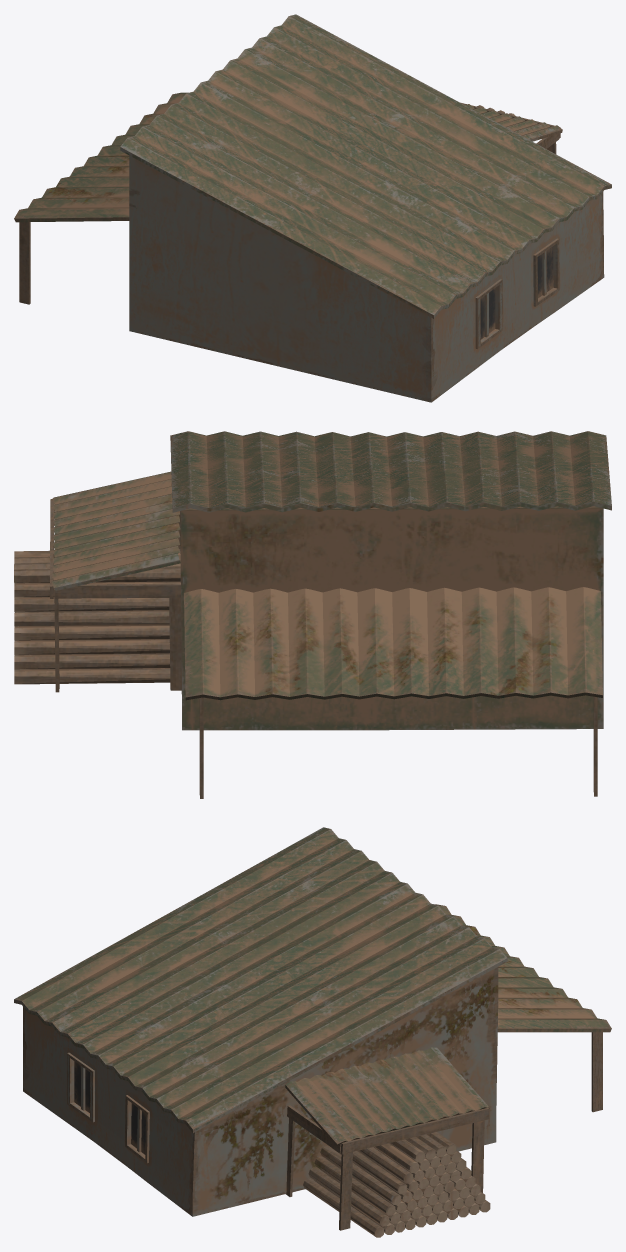
The model's file is SM_house_distant.gltf.
3 renders of one model, top to bottom at view 1: azimuth 30°, elevation 25°; view 2: azimuth 150°, elevation 25°; view 3: azimuth 270°, elevation 25°, orthographic. The views are drawn at different scales.
Parts seen in each view (by area): view 1: SM_house_distant; view 2: SM_house_distant; view 3: SM_house_distant.
Boxes of the visible parts, left/top/right/bottom form: SM_house_distant: left=14, top=14, right=611, bottom=402; SM_house_distant: left=14, top=431, right=611, bottom=798; SM_house_distant: left=14, top=827, right=611, bottom=1237.
Bounding box in the file's own units: 19.04 × 6.74 × 19.23.
Materials: 1 (1 with a texture image).
